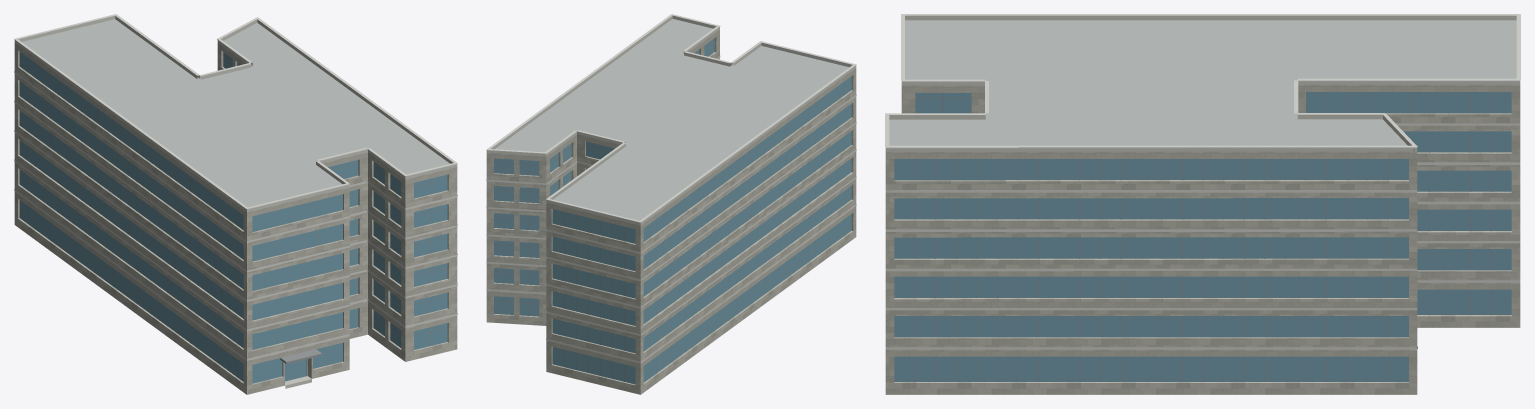
3 views of the same model, side by side, from view 1: azimuth 30°, elevation 25°; view 2: azimuth 150°, elevation 25°; view 3: azimuth 270°, elevation 25° (orthographic). The views are drawn at different scales.
Visible parts, largest first — view 1: b111__wall, unist-batch-b111__parapet, b111__glass, b111__trim, b111__frame; view 2: b111__wall, unist-batch-b111__parapet, b111__glass, b111__trim, b111__frame; view 3: b111__glass, b111__wall, unist-batch-b111__parapet, b111__trim, b111__frame.
Part boxes in pixels (x1=…): b111__wall: x1=14, y1=43, x2=457, y2=394; unist-batch-b111__parapet: x1=14, y1=16, x2=457, y2=394; b111__glass: x1=19, y1=52, x2=447, y2=383; b111__trim: x1=14, y1=14, x2=457, y2=360; b111__frame: x1=27, y1=55, x2=447, y2=379; b111__wall: x1=486, y1=29, x2=856, y2=394; unist-batch-b111__parapet: x1=486, y1=15, x2=856, y2=394; b111__glass: x1=494, y1=38, x2=851, y2=384; b111__trim: x1=486, y1=14, x2=856, y2=363; b111__frame: x1=494, y1=41, x2=844, y2=381; b111__glass: x1=894, y1=92, x2=1511, y2=381; b111__wall: x1=885, y1=85, x2=1520, y2=394; unist-batch-b111__parapet: x1=885, y1=15, x2=1520, y2=394; b111__trim: x1=885, y1=14, x2=1520, y2=349; b111__frame: x1=914, y1=92, x2=1491, y2=382.
Bounding box in the file's own units: 27.73 × 24.35 × 55.75.
7 materials, 1 textured.
